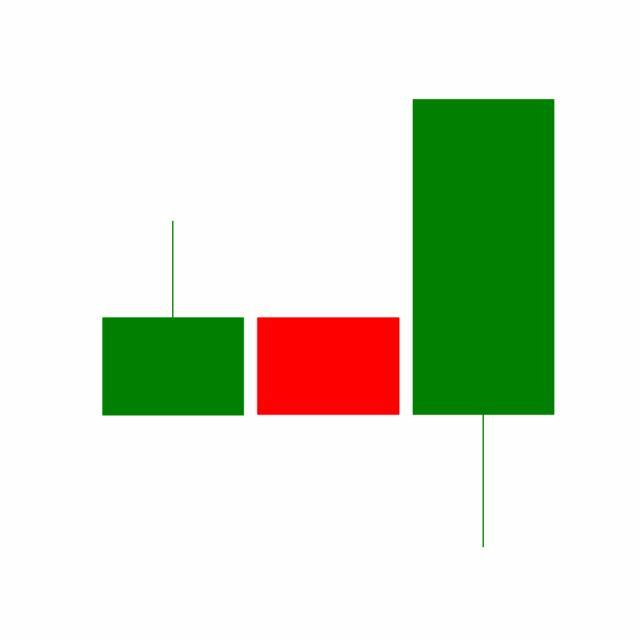Marubozu: (250, 317, 407, 416)
